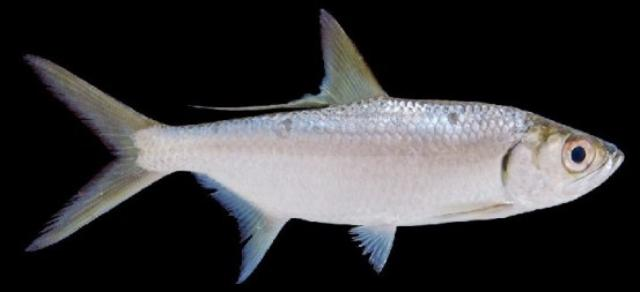Mulut: (588, 128, 638, 190)
Sirip Anal: (189, 164, 283, 288)
Sirip Dada: (425, 196, 519, 228)
Sirip Ekor: (15, 43, 145, 259)
Sirip Perut: (342, 204, 408, 270)
Sirip Punggung: (190, 5, 396, 122)
